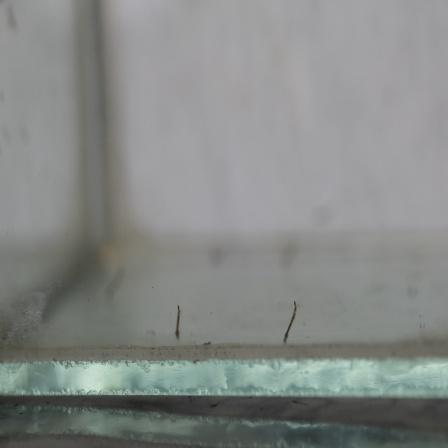Jentik-Nyamuk: (278, 296, 303, 345), (168, 301, 187, 343)
